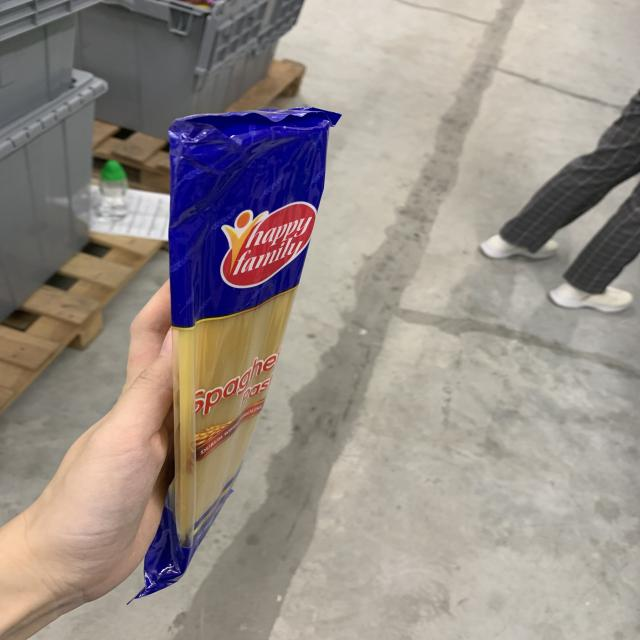object_name: (170, 127, 267, 574)
